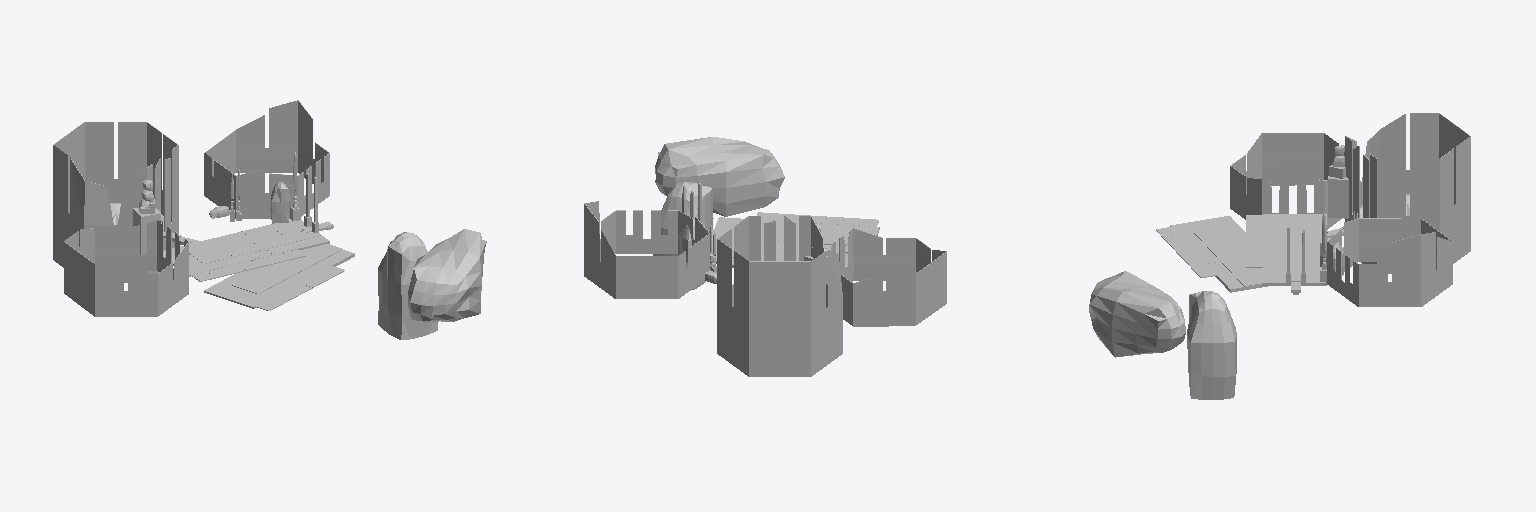
File: courtyardElements.obj
3 renders of one model, left to right at view 1: azimuth 30°, elevation 25°; view 2: azimuth 150°, elevation 25°; view 3: azimuth 270°, elevation 25°, orthographic.
Parts seen in each view (by area): view 1: _Courtyard_Elements polySurface3, _Courtyard_Elements polySurface10, _Courtyard_Elements polySurface38, _Courtyard_Elements polySurface27 polySurface37, _Courtyard_Elements polySurface27 polySurface36, _Courtyard_Elements polySurface27 polySurface35, group3 _Courtyard_Elements bottom pCube15, group3 _Courtyard_Elements bottom pCube14, _Courtyard_Elements polySurface27 polySurface30, _Courtyard_Elements group6 bottom pCube14; view 2: _Courtyard_Elements polySurface3, _Courtyard_Elements polySurface38, _Courtyard_Elements polySurface10, _Courtyard_Elements polySurface27 polySurface37, _Courtyard_Elements polySurface27 polySurface36; view 3: _Courtyard_Elements polySurface3, _Courtyard_Elements polySurface38, _Courtyard_Elements polySurface10, _Courtyard_Elements polySurface27 polySurface37, _Courtyard_Elements polySurface27 polySurface36, _Courtyard_Elements polySurface27 polySurface35, group3 _Courtyard_Elements bottom pCube15, group3 _Courtyard_Elements bottom pCube14, _Courtyard_Elements group6 bottom pCube14, _Courtyard_Elements group6 bottom pCube15.
Part boxes in pixels (x1,y1,x2,y2): _Courtyard_Elements polySurface3: (53, 122, 178, 282); _Courtyard_Elements polySurface10: (64, 220, 188, 316); _Courtyard_Elements polySurface38: (204, 100, 329, 218); _Courtyard_Elements polySurface27 polySurface37: (408, 229, 486, 322); _Courtyard_Elements polySurface27 polySurface36: (378, 232, 437, 339); _Courtyard_Elements polySurface27 polySurface35: (133, 180, 160, 255); group3 _Courtyard_Elements bottom pCube15: (241, 219, 329, 254); group3 _Courtyard_Elements bottom pCube14: (189, 232, 272, 268); _Courtyard_Elements polySurface27 polySurface30: (270, 182, 289, 223); _Courtyard_Elements group6 bottom pCube14: (224, 266, 312, 296); _Courtyard_Elements polySurface3: (717, 216, 842, 376); _Courtyard_Elements polySurface38: (584, 201, 709, 298); _Courtyard_Elements polySurface10: (825, 228, 946, 326); _Courtyard_Elements polySurface27 polySurface37: (655, 137, 784, 216); _Courtyard_Elements polySurface27 polySurface36: (653, 182, 713, 289); _Courtyard_Elements polySurface3: (1345, 113, 1470, 273); _Courtyard_Elements polySurface38: (1327, 218, 1452, 306); _Courtyard_Elements polySurface10: (1230, 133, 1344, 229); _Courtyard_Elements polySurface27 polySurface37: (1089, 271, 1185, 357); _Courtyard_Elements polySurface27 polySurface36: (1187, 291, 1236, 399); _Courtyard_Elements polySurface27 polySurface35: (1328, 145, 1348, 218); group3 _Courtyard_Elements bottom pCube15: (1263, 255, 1326, 285); group3 _Courtyard_Elements bottom pCube14: (1263, 227, 1321, 254); _Courtyard_Elements group6 bottom pCube14: (1183, 228, 1245, 263); _Courtyard_Elements group6 bottom pCube15: (1207, 262, 1267, 292).
Bounding box in the file's own units: 233 × 108 × 227.